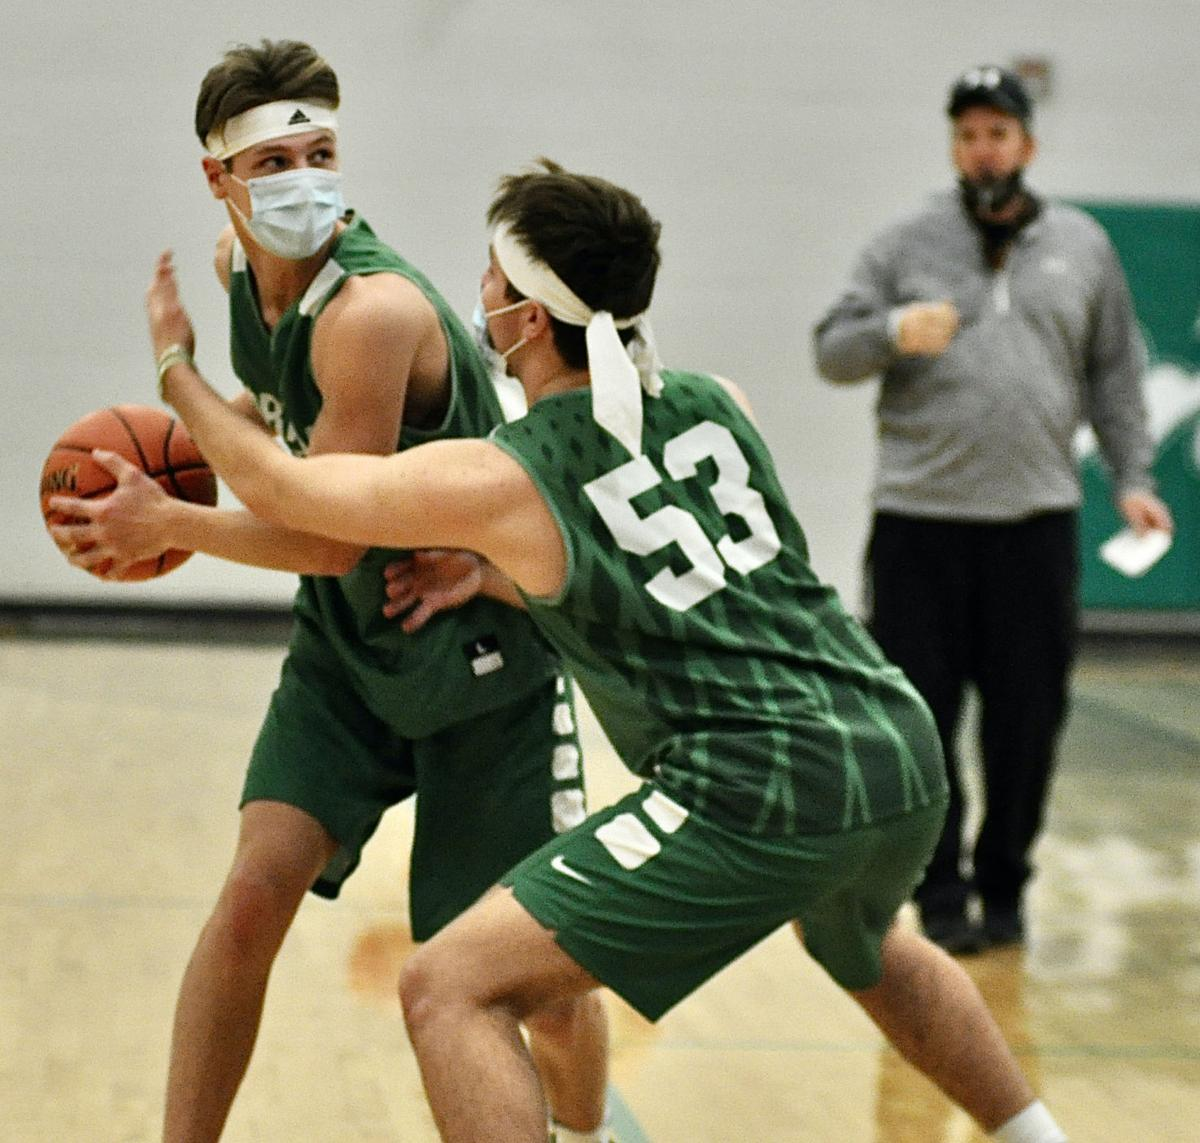with_incorrect_mask: (946, 99, 1033, 208)
with_mask: (231, 105, 350, 266)
